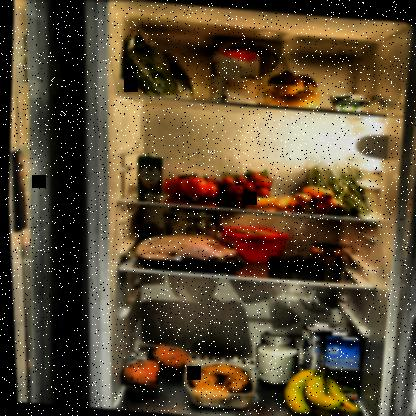banana: (277, 364, 359, 415)
blueberries: (263, 251, 325, 275)
butter: (213, 222, 291, 267)
carrot: (288, 185, 347, 218), (243, 194, 289, 213)
chicken: (128, 228, 247, 275)
corn: (306, 242, 343, 270)
green_beans: (298, 155, 374, 218)
heavy_cream: (133, 152, 165, 204)
milk: (315, 330, 364, 403), (294, 321, 344, 386)
onion: (265, 69, 319, 109)
potato: (183, 359, 254, 410)
spinach: (114, 19, 202, 104)
strawberries: (217, 166, 271, 202)
sweet_potato: (110, 340, 189, 398)
tomato: (158, 169, 225, 205)
